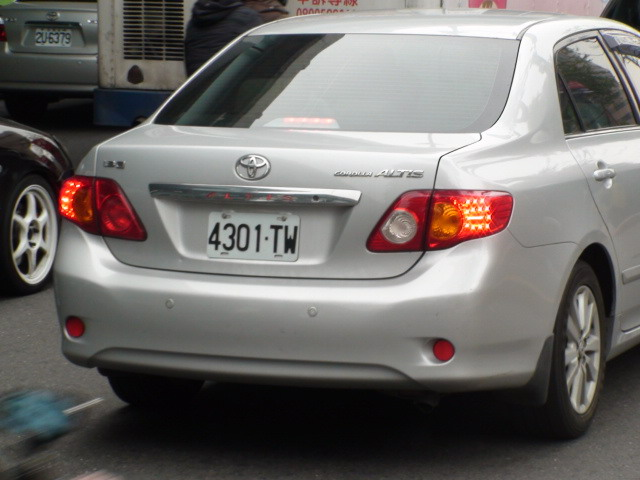plate: (204, 207, 301, 264), (30, 23, 74, 50)
